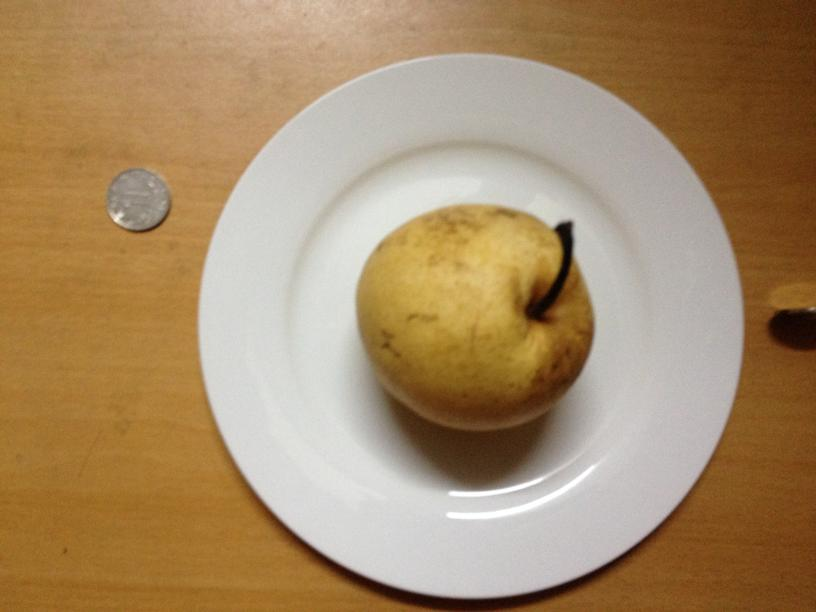coin: (103, 167, 175, 232)
pear: (355, 208, 585, 431)
